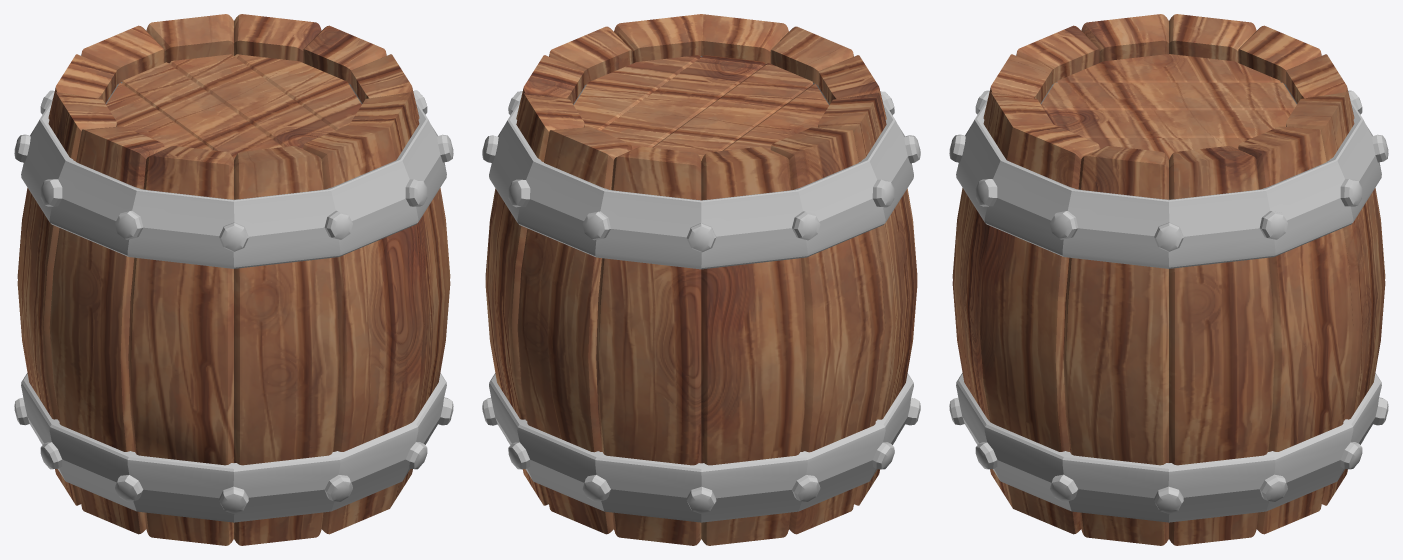
The model's file is Barril.glb.
3 views of the same model, side by side, from view 1: azimuth 30°, elevation 25°; view 2: azimuth 150°, elevation 25°; view 3: azimuth 270°, elevation 25° (orthographic).
Visible parts, largest first — view 1: Barril; view 2: Barril; view 3: Barril.
Boxes of the visible parts, x1,y1,x2,y2 form: Barril: (14, 14, 453, 545); Barril: (482, 14, 920, 545); Barril: (949, 14, 1388, 545).
Bounding box in the file's own units: 2.54 × 2.43 × 2.54.
1 material, 1 textured.
